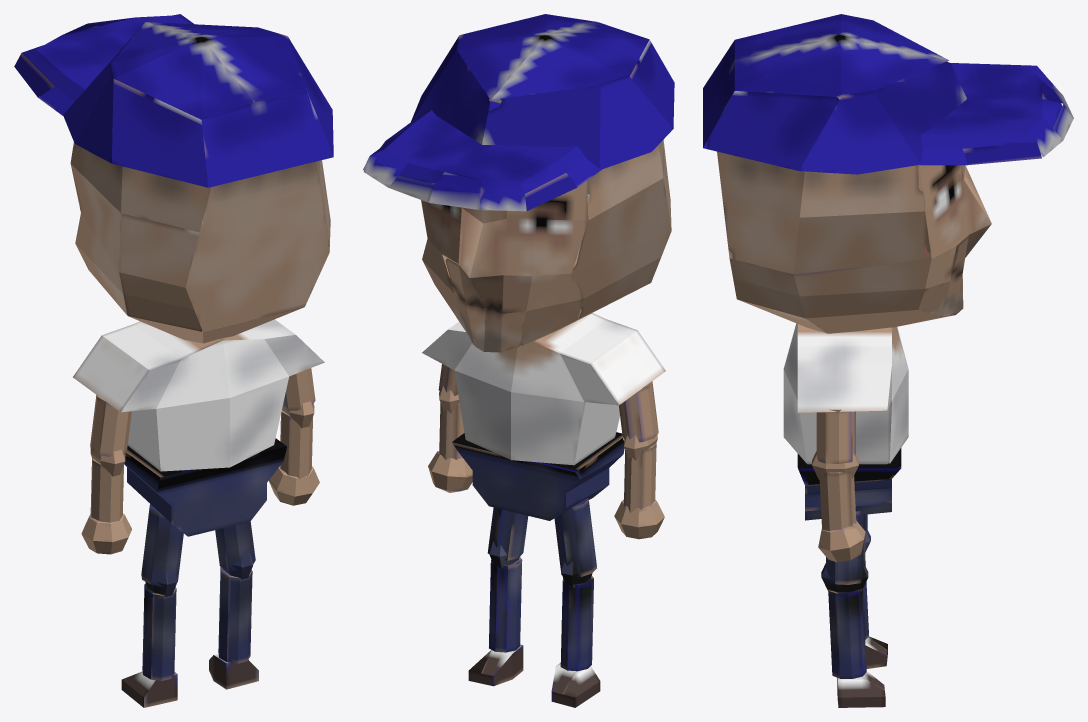
File: Test Character.fbx
3 views of the same model, side by side, from view 1: azimuth 30°, elevation 25°; view 2: azimuth 150°, elevation 25°; view 3: azimuth 270°, elevation 25° (orthographic). The views are drawn at different scales.
Parts seen in each view (by area): view 1: Head, Hat Top, Body, Torso, Hat Brim, Lower Leg, Lower Leg_1, Upper leg, Upper Arm_1, Lower Arm_1, Lower Arm, Hand_1 (+6 smaller); view 2: Head, Hat Top, Body, Hat Brim, Torso, Lower Leg, Lower Leg_1, Upper leg, Lower Arm_1, Upper Arm_1, Foot, Foot_1 (+4 smaller); view 3: Head, Hat Top, Body, Hat Brim, Lower Leg_1, Torso, Upper Arm, Lower Arm, Foot_1, Hand, Upper leg_1, Foot (+1 smaller).
Boxes of the visible parts, left/top/right/bottom form: Head: left=70, top=142, right=330, bottom=343; Hat Top: left=63, top=22, right=333, bottom=187; Body: left=73, top=319, right=324, bottom=471; Torso: left=124, top=438, right=286, bottom=536; Hat Brim: left=14, top=14, right=194, bottom=115; Lower Leg: left=142, top=583, right=176, bottom=680; Lower Leg_1: left=218, top=567, right=252, bottom=663; Upper leg: left=141, top=504, right=183, bottom=586; Upper Arm_1: left=90, top=395, right=131, bottom=456; Lower Arm_1: left=90, top=458, right=123, bottom=522; Lower Arm: left=280, top=410, right=312, bottom=479; Hand_1: left=81, top=513, right=131, bottom=554; Head: left=421, top=98, right=671, bottom=352; Hat Top: left=410, top=14, right=674, bottom=169; Body: left=422, top=313, right=665, bottom=465; Hat Brim: left=363, top=100, right=601, bottom=211; Torso: left=452, top=432, right=624, bottom=520; Lower Leg: left=560, top=575, right=593, bottom=671; Lower Leg_1: left=489, top=557, right=522, bottom=652; Upper leg: left=554, top=498, right=596, bottom=577; Lower Arm_1: left=624, top=443, right=656, bottom=512; Upper Arm_1: left=619, top=381, right=658, bottom=442; Foot: left=551, top=663, right=600, bottom=707; Foot_1: left=468, top=644, right=523, bottom=686; Head: left=717, top=97, right=991, bottom=333; Hat Top: left=703, top=14, right=966, bottom=174; Body: left=783, top=323, right=908, bottom=464; Hat Brim: left=918, top=63, right=1073, bottom=165; Lower Leg_1: left=828, top=589, right=866, bottom=678; Torso: left=797, top=448, right=901, bottom=520; Upper Arm: left=816, top=409, right=855, bottom=463; Lower Arm: left=819, top=471, right=856, bottom=530; Foot_1: left=837, top=671, right=885, bottom=707; Hand: left=818, top=521, right=865, bottom=562; Upper leg_1: left=826, top=511, right=865, bottom=584; Foot: left=865, top=636, right=887, bottom=668.
Size of the model in its own units: 177 by 471 by 246.
Materials: 1 (1 with a texture image).
